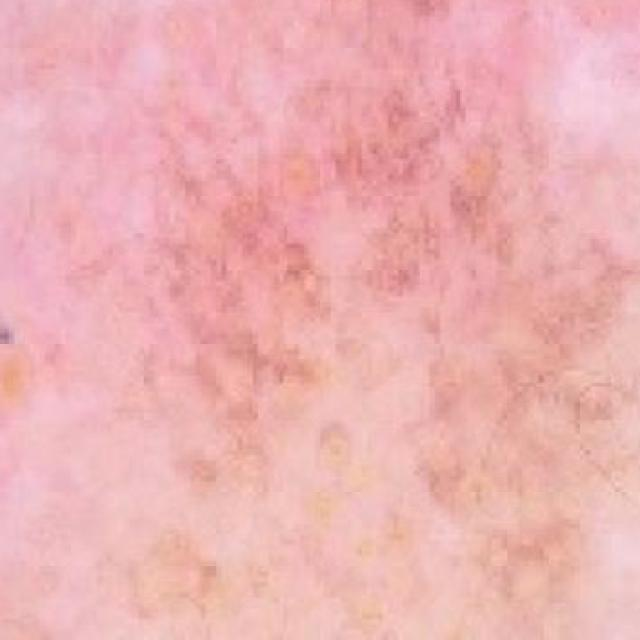BKL: (143, 3, 640, 640)
